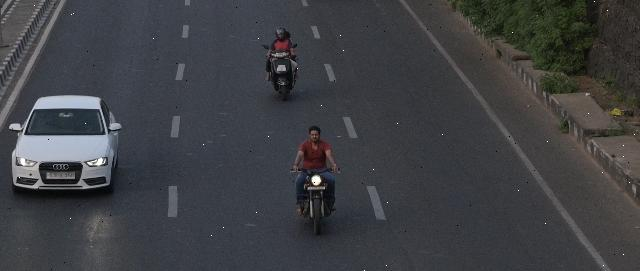With Helmet: (276, 25, 286, 41)
Without Helmet: (306, 124, 324, 142)
